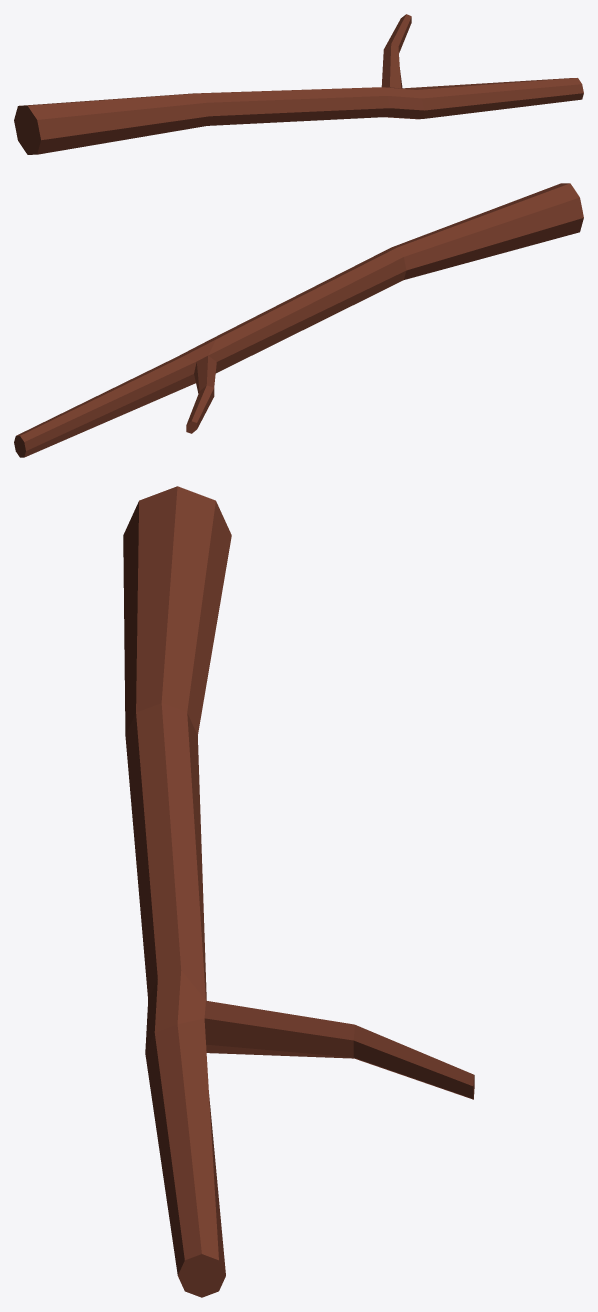
File: pine_branch_type_1_LOD0.fbx
3 views of the same model, one above another, from view 1: azimuth 30°, elevation 25°; view 2: azimuth 210°, elevation 25°; view 3: azimuth 270°, elevation 25° (orthographic). The views are drawn at different scales.
Parts seen in each view (by area): view 1: Circle.011; view 2: Circle.011; view 3: Circle.011.
Part boxes in pixels (bbox=[...]): Circle.011: bbox=[14, 14, 583, 154]; Circle.011: bbox=[14, 183, 583, 457]; Circle.011: bbox=[123, 486, 474, 1297].
Size of the model in its own units: 299 by 69.03 by 81.9.
